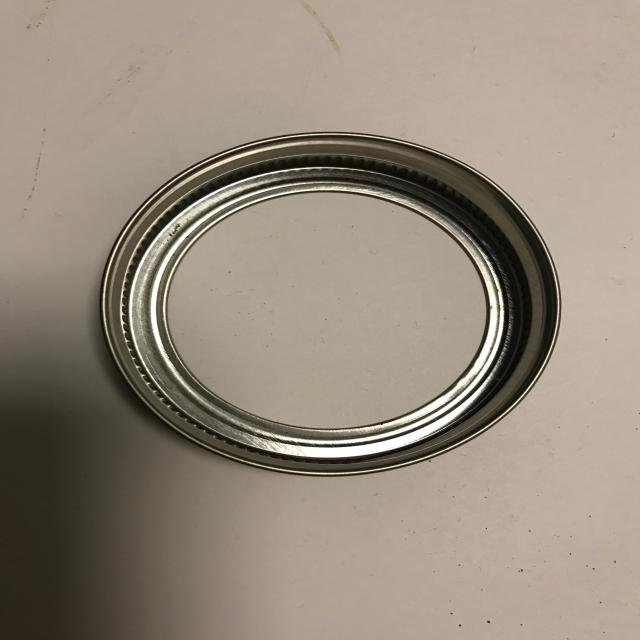metal: (99, 130, 562, 477)
